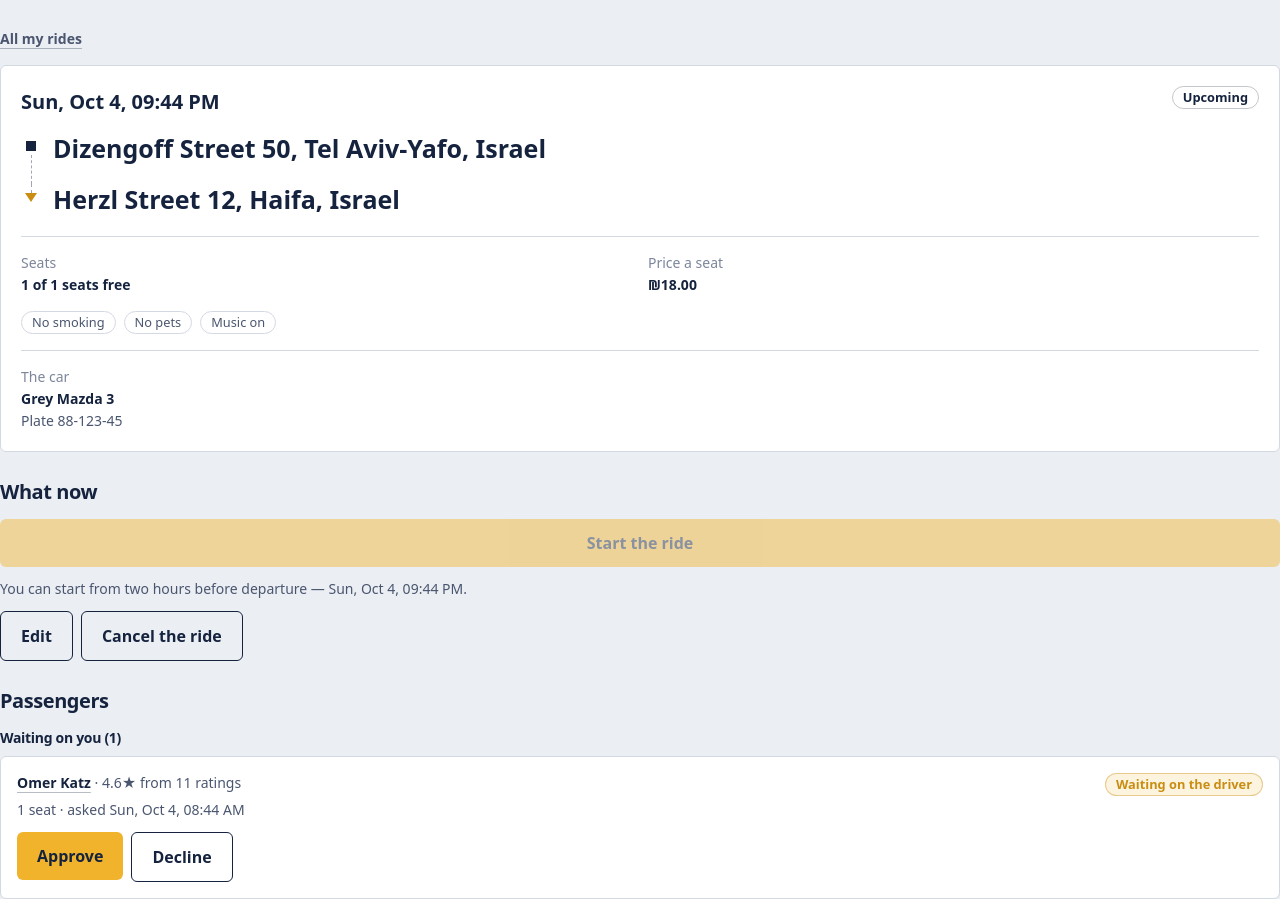
Test: answering requests on your own ride › approves a seat, moves the count and fills the ride
The image size is (1280, 899).
(page scrolled)
Expected: the text "1 of 1 seats free" is shown, [21,275,130,294]
What coordinates should you click on to do the following:
click the button "Approve"
I would click on:
 (70, 856)
Its box is [17,832,123,880].
(page scrolled)
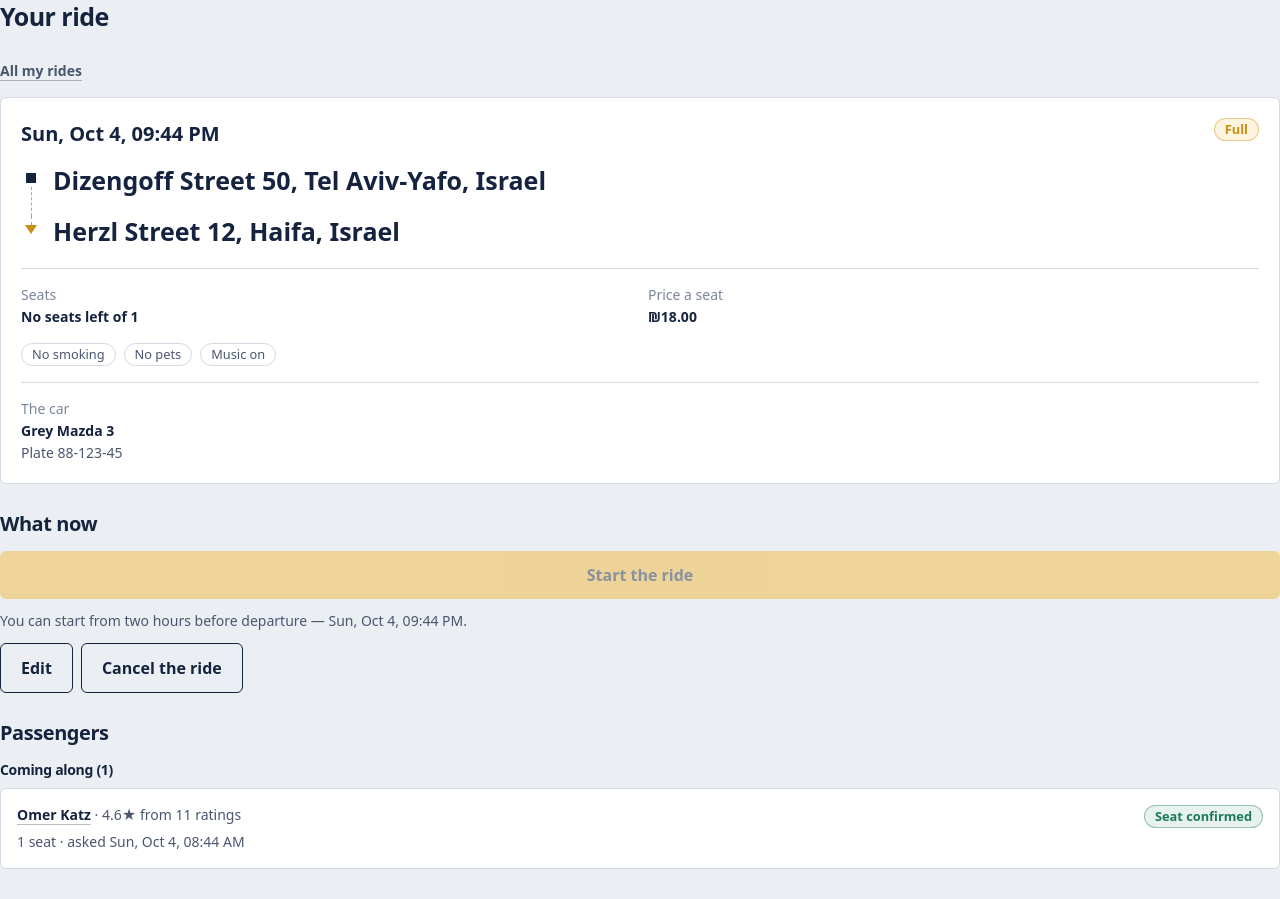
Expected: the text "Full" is shown, [1214,118,1259,141]
Result: the text "Seat confirmed" is shown at [1144,805,1263,828]
Result: the text "No seats left of 1" is shown at [21,307,138,326]
